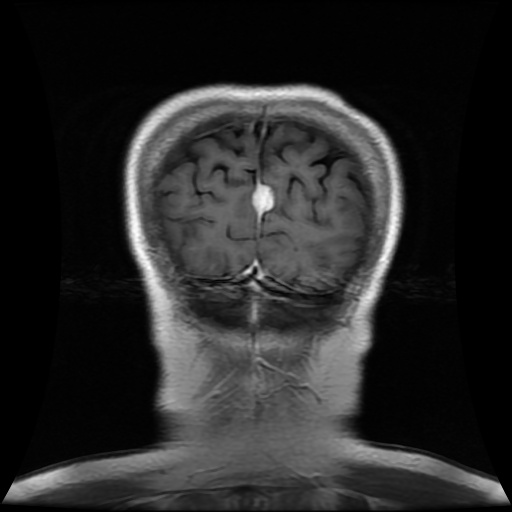meningioma: (251, 182, 273, 211)
